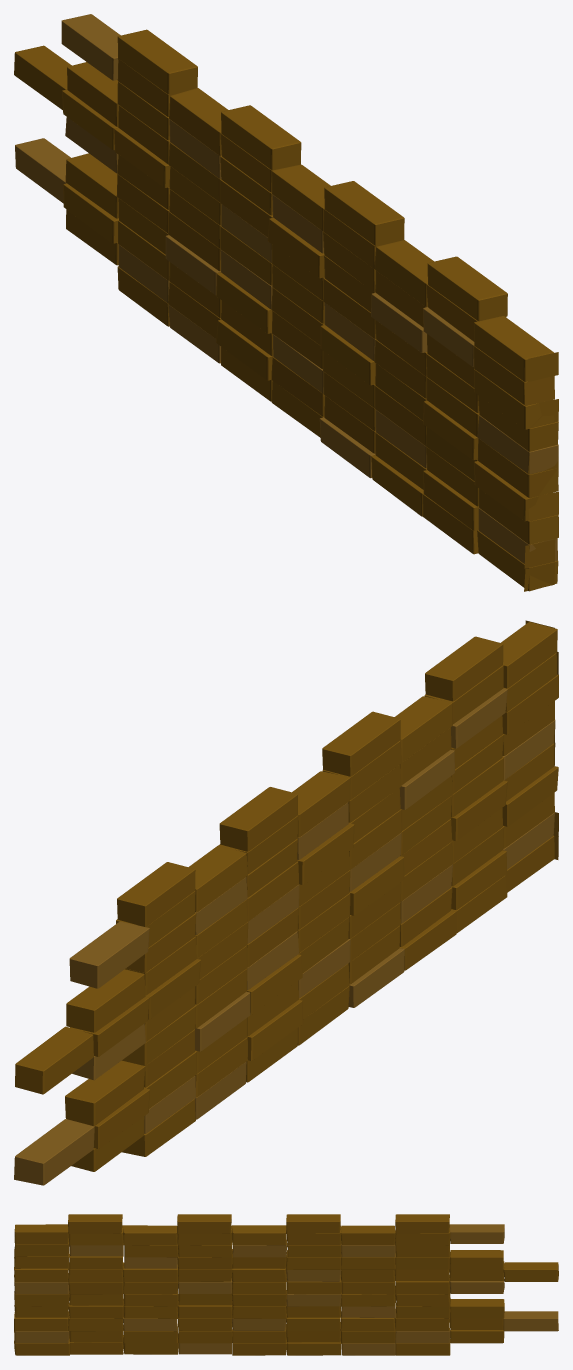
File: Wall_TileEND.fbx
3 views of the same model, one above another, from view 1: azimuth 30°, elevation 25°; view 2: azimuth 150°, elevation 25°; view 3: azimuth 270°, elevation 25° (orthographic). The views are drawn at different scales.
Visible parts, largest first — view 1: Cube.001, Cube.071; view 2: Cube.001, Cube.071; view 3: Cube.001, Cube.071.
Boxes of the visible parts, bbox=[...] form: Cube.001: bbox=[14, 14, 558, 591]; Cube.071: bbox=[117, 29, 507, 321]; Cube.001: bbox=[14, 620, 558, 1185]; Cube.071: bbox=[117, 636, 503, 927]; Cube.001: bbox=[14, 1224, 558, 1355]; Cube.071: bbox=[68, 1214, 449, 1233].
Size of the model in its own units: 0.6621 by 4.69 by 17.29.
